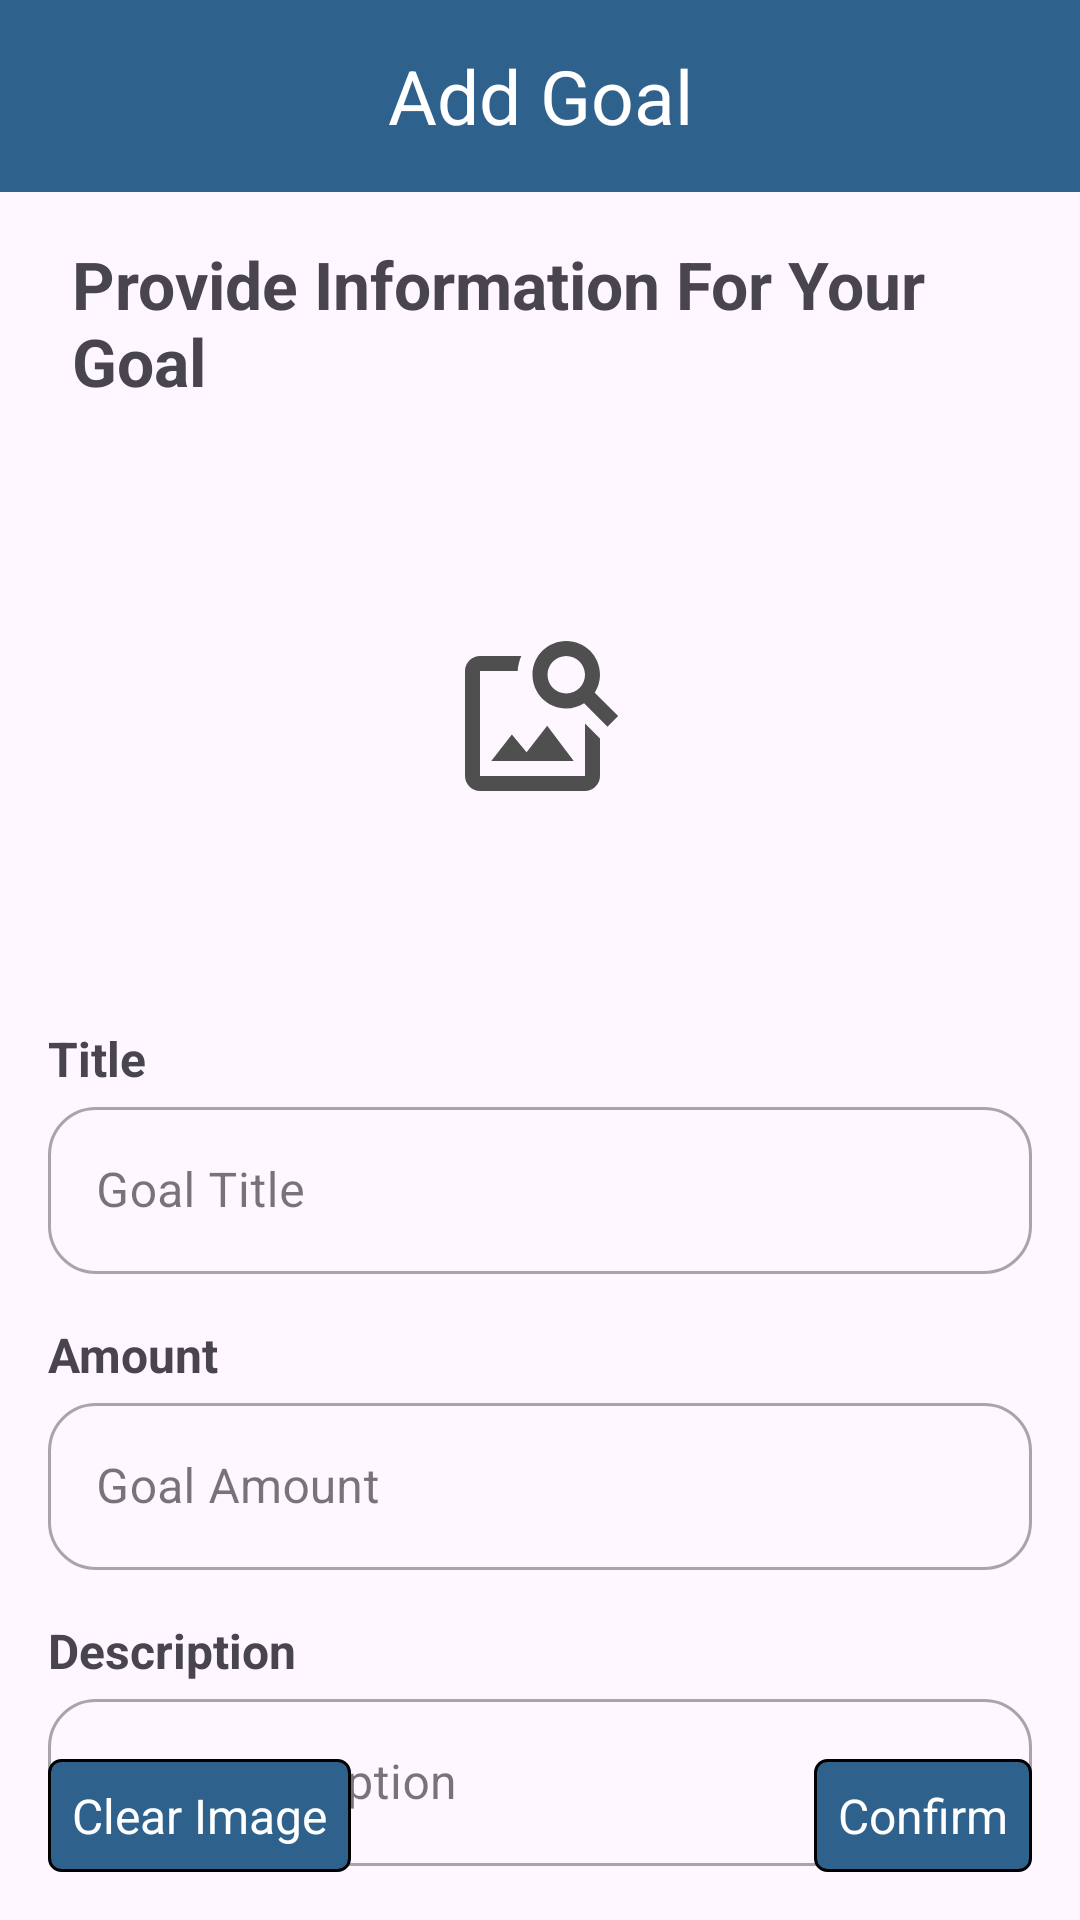

Locate icon controls on the screen. Image size 1080*1920, boxes as (x1, y1, x2, y2).
search: (465, 641, 618, 791)
